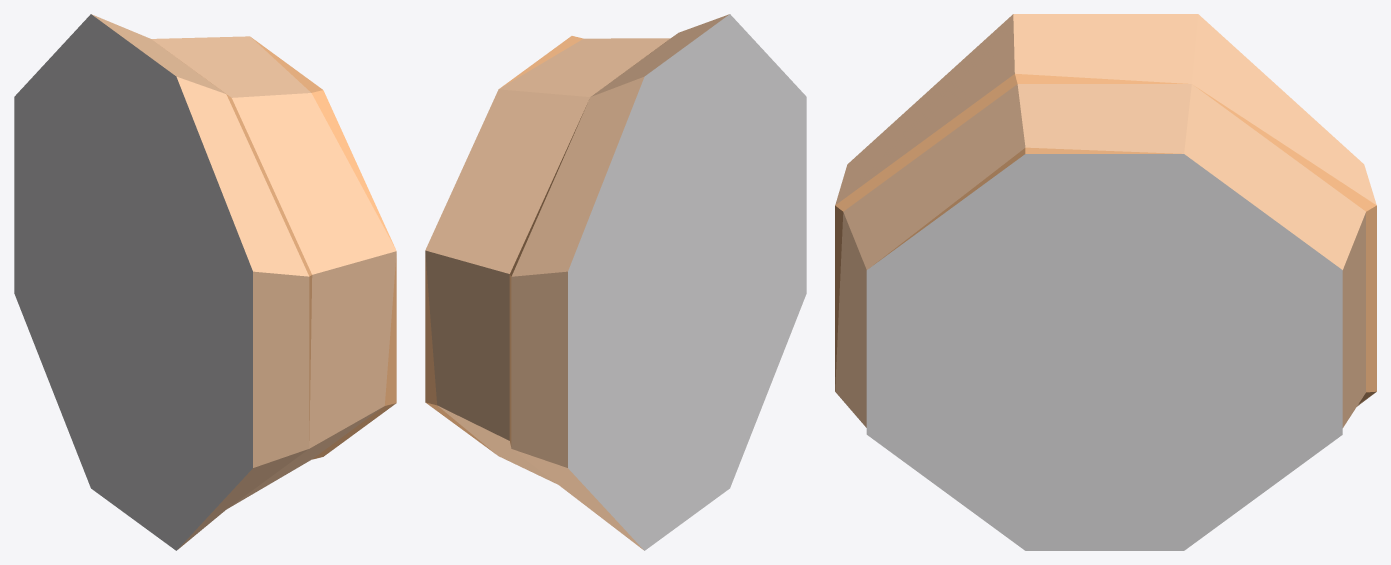
The model's file is parsnip02.obj.
3 views of the same model, side by side, from view 1: azimuth 30°, elevation 25°; view 2: azimuth 150°, elevation 25°; view 3: azimuth 270°, elevation 25° (orthographic). The views are drawn at different scales.
Parts seen in each view (by area): view 1: Cylinder.001; view 2: Cylinder.001; view 3: Cylinder.001.
Boxes of the visible parts, left/top/right/bottom form: Cylinder.001: left=14, top=14, right=396, bottom=550; Cylinder.001: left=425, top=14, right=806, bottom=550; Cylinder.001: left=835, top=14, right=1376, bottom=550.
Size of the model in its own units: 0.0106 by 0.0315 by 0.0301.
1 material, 1 textured.
